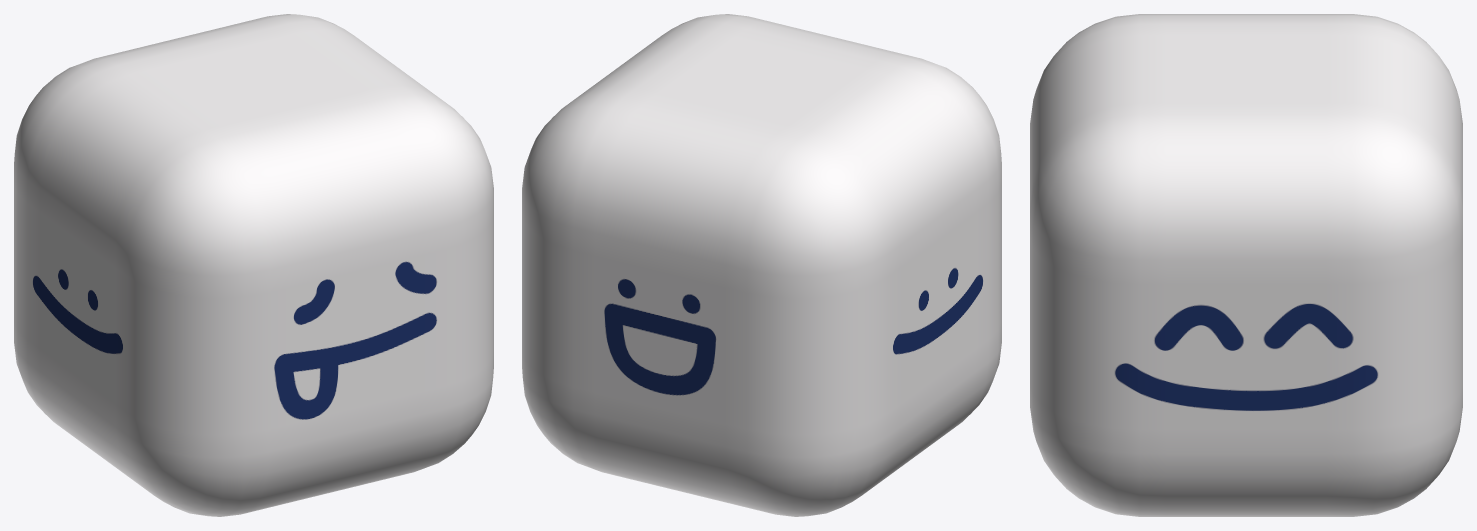
The model's file is friend_smol_faces_rounded.glb.
3 renders of one model, left to right at view 1: azimuth 30°, elevation 25°; view 2: azimuth 150°, elevation 25°; view 3: azimuth 270°, elevation 25°, orthographic. The views are drawn at different scales.
Visible parts, largest first — view 1: Cube.001; view 2: Cube.001; view 3: Cube.001.
Boxes of the visible parts, x1,y1,x2,y2 form: Cube.001: (14, 14, 493, 516); Cube.001: (522, 14, 1001, 516); Cube.001: (1030, 14, 1462, 516).
Bounding box in the file's own units: 4.06 × 4.06 × 4.06.
Materials: 6 (6 with a texture image).
